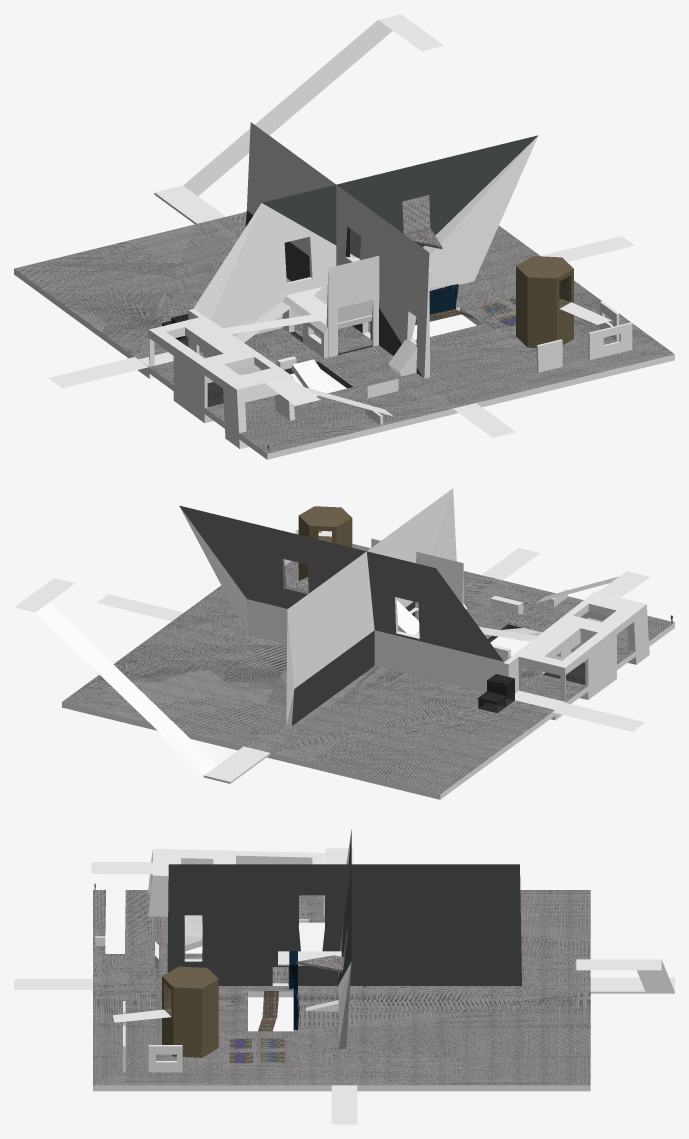
File: fpsMap.dae
3 views of the same model, one above another, from view 1: azimuth 30°, elevation 25°; view 2: azimuth 150°, elevation 25°; view 3: azimuth 270°, elevation 25° (orthographic). The views are drawn at different scales.
Parts seen in each view (by area): view 1: SketchUp (×14); view 2: SketchUp (×9); view 3: SketchUp (×12).
Boxes of the visible parts, x1,y1,x2,y2 form: SketchUp (×14): (14,14,674,459); SketchUp (×9): (14,488,674,799); SketchUp (×12): (14,829,674,1124).
Size of the model in its own units: 5099 by 5158 by 1184.
